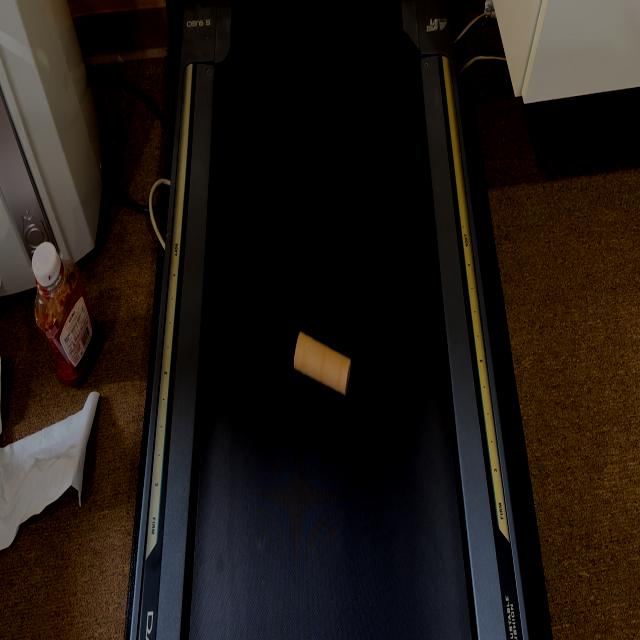Recycle: (292, 330, 352, 400)
